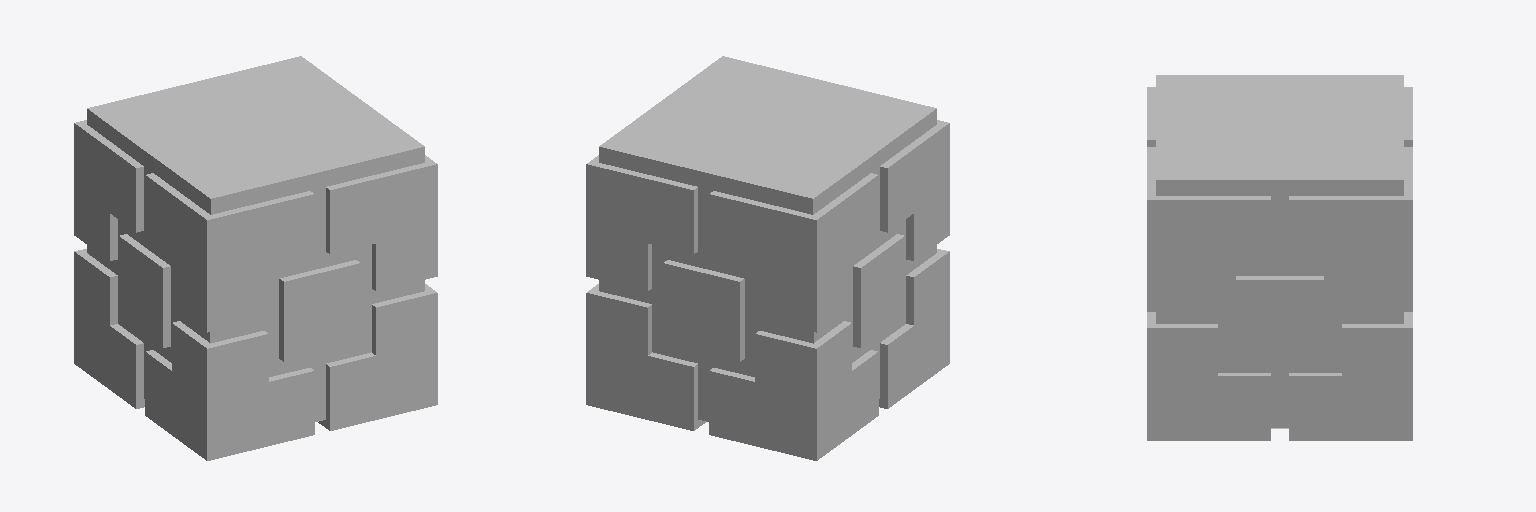
Rendered from modelBlockChromium.obj.
3 renders of one model, left to right at view 1: azimuth 30°, elevation 25°; view 2: azimuth 150°, elevation 25°; view 3: azimuth 270°, elevation 25°, orthographic.
Visible parts, largest first — view 1: Cube_Cube.001; view 2: Cube_Cube.001; view 3: Cube_Cube.001.
Boxes of the visible parts, box(x1,y1,x2,y2) form: Cube_Cube.001: box(74, 56, 437, 460); Cube_Cube.001: box(586, 56, 949, 460); Cube_Cube.001: box(1147, 75, 1412, 440).
Size of the model in its own units: 0.9375 by 1 by 0.9375.